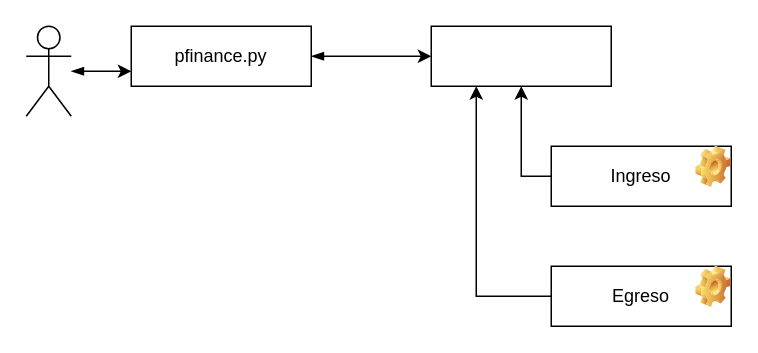
This 758x353 diagram has some shape labels left out. Each missing label, with the centre of its shape:
Actor: point (48, 70)
ProyectoFi: point (520, 55)
